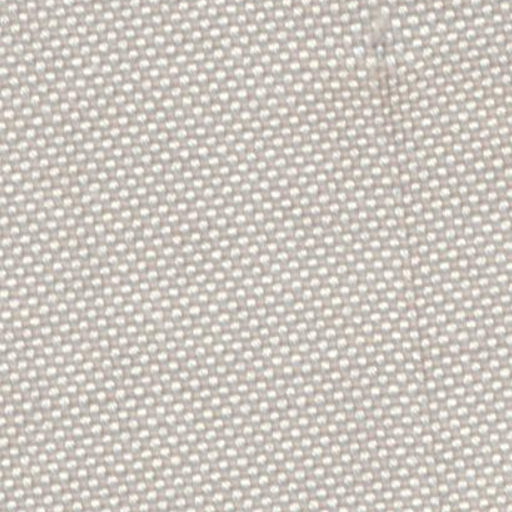TuoSha: (356, 54, 452, 494)
